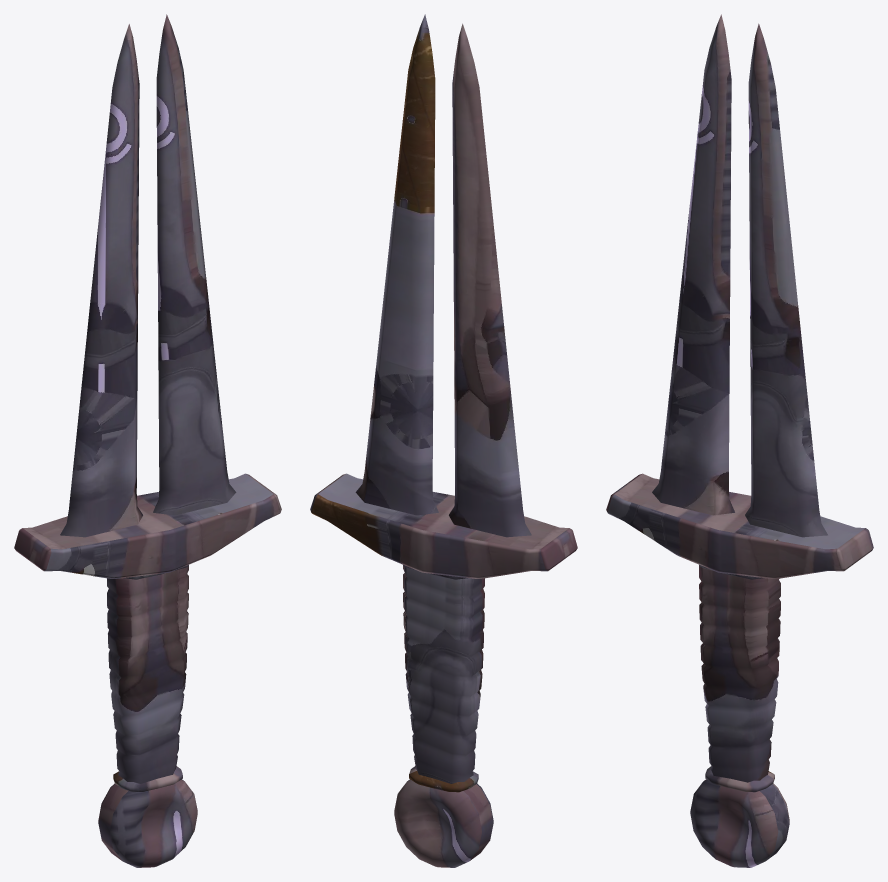
The picture shows the model from 3 angles, left to right: view 1: azimuth 30°, elevation 25°; view 2: azimuth 150°, elevation 25°; view 3: azimuth 330°, elevation 25°; orthographic projection.
Parts seen in each view (by area): view 1: SM_Dagger_Mithril_1H_01_LOD0; view 2: SM_Dagger_Mithril_1H_01_LOD0; view 3: SM_Dagger_Mithril_1H_01_LOD0.
Boxes of the visible parts, x1=… form: SM_Dagger_Mithril_1H_01_LOD0: x1=14, y1=14, x2=281, y2=867; SM_Dagger_Mithril_1H_01_LOD0: x1=310, y1=14, x2=577, y2=867; SM_Dagger_Mithril_1H_01_LOD0: x1=606, y1=14, x2=873, y2=867.
Bounding box in the file's own units: 0.1557 × 0.5237 × 0.0532.
